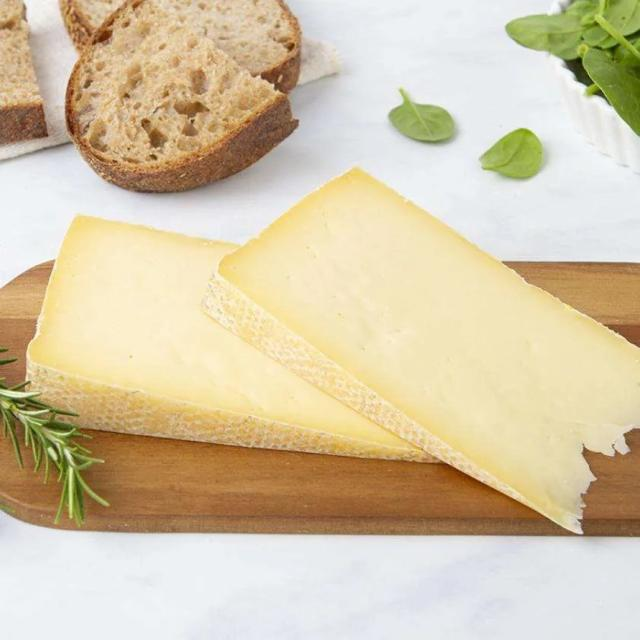Cheese: (210, 145, 631, 542), (31, 194, 498, 501)
